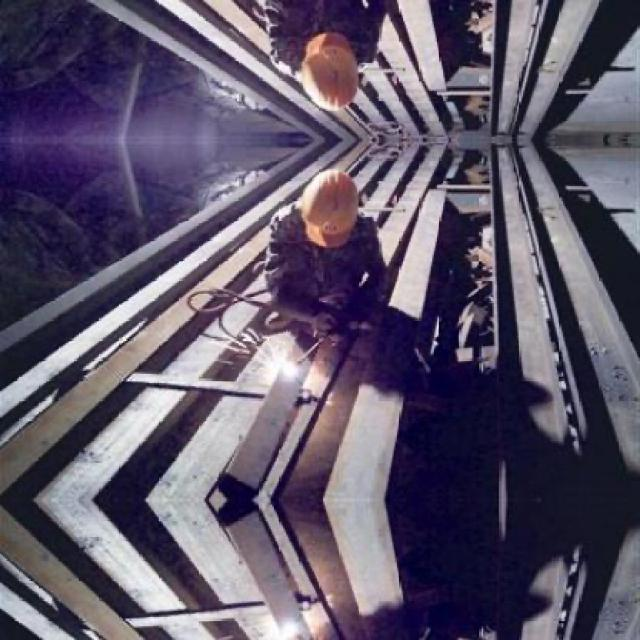helmet: (294, 162, 363, 248), (294, 32, 363, 118)
